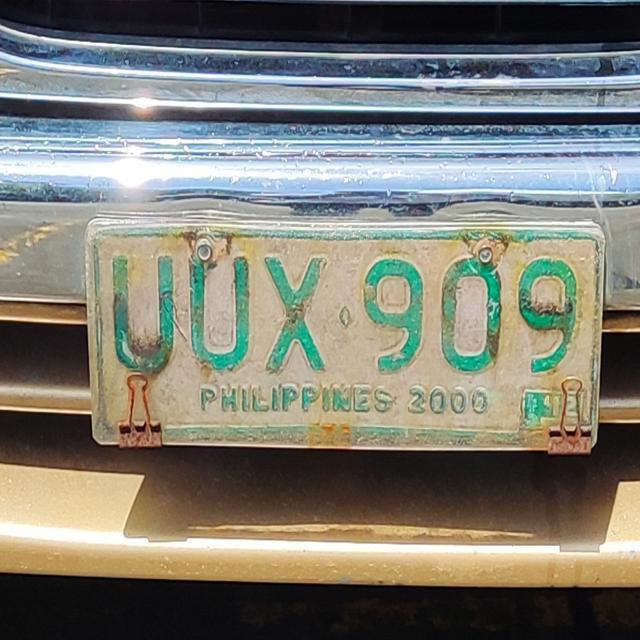LicensePlate: (79, 205, 609, 461)
